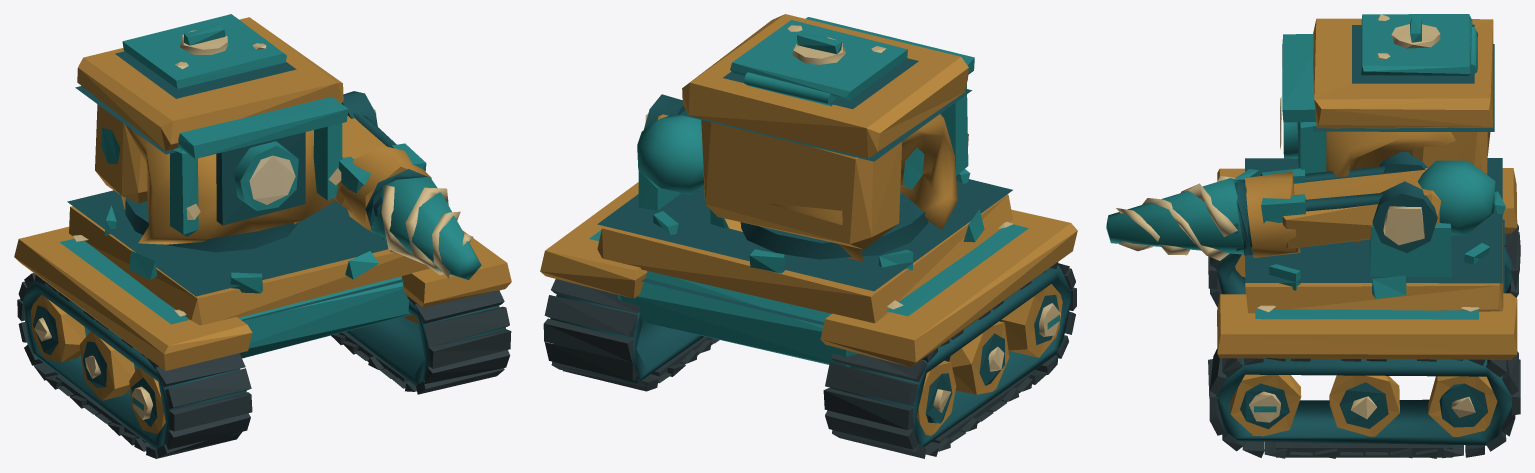
Rendered from TOY_QUOTA.far.glb.
The picture shows the model from 3 angles, left to right: view 1: azimuth 30°, elevation 25°; view 2: azimuth 150°, elevation 25°; view 3: azimuth 270°, elevation 25°; orthographic projection. The views are drawn at different scales.
Parts seen in each view (by area): view 1: mesh_Chassis, mesh_TurretYaw, mesh_BodySpring, mesh_BatteryCover, mesh_DrillSpin, mesh_Slide, mesh_ArmPitch, mesh_DriveL; view 2: mesh_Chassis, mesh_TurretYaw, mesh_BodySpring, mesh_BatteryCover, mesh_ArmPitch, mesh_DriveL; view 3: mesh_Chassis, mesh_TurretYaw, mesh_BodySpring, mesh_ArmPitch, mesh_DrillSpin, mesh_BatteryCover, mesh_Slide, mesh_DriveR.
Boxes of the visible parts, left/top/right/bottom form: mesh_Chassis: left=14, top=226, right=511, bottom=458; mesh_TurretYaw: left=75, top=17, right=377, bottom=252; mesh_BodySpring: left=67, top=190, right=430, bottom=325; mesh_BatteryCover: left=122, top=14, right=286, bottom=88; mesh_DrillSpin: left=370, top=176, right=481, bottom=279; mesh_Slide: left=338, top=143, right=431, bottom=239; mesh_ArmPitch: left=334, top=108, right=396, bottom=211; mesh_DriveL: left=132, top=386, right=152, bottom=419; mesh_Chassis: left=540, top=182, right=1077, bottom=458; mesh_TurretYaw: left=638, top=14, right=974, bottom=261; mesh_BodySpring: left=597, top=169, right=1012, bottom=323; mesh_BatteryCover: left=730, top=20, right=907, bottom=106; mesh_ArmPitch: left=637, top=114, right=703, bottom=194; mesh_DriveL: left=1039, top=303, right=1061, bottom=336; mesh_Chassis: left=1208, top=168, right=1520, bottom=458; mesh_TurretYaw: left=1280, top=18, right=1494, bottom=276; mesh_BodySpring: left=1235, top=158, right=1505, bottom=313; mesh_ArmPitch: left=1282, top=160, right=1495, bottom=248; mesh_DrillSpin: left=1106, top=176, right=1252, bottom=260; mesh_BatteryCover: left=1361, top=14, right=1477, bottom=76; mesh_Slide: left=1237, top=168, right=1305, bottom=257; mesh_DriveR: left=1249, top=391, right=1280, bottom=422.
Bounding box in the file's own units: 2.98 × 2.74 × 3.05.
